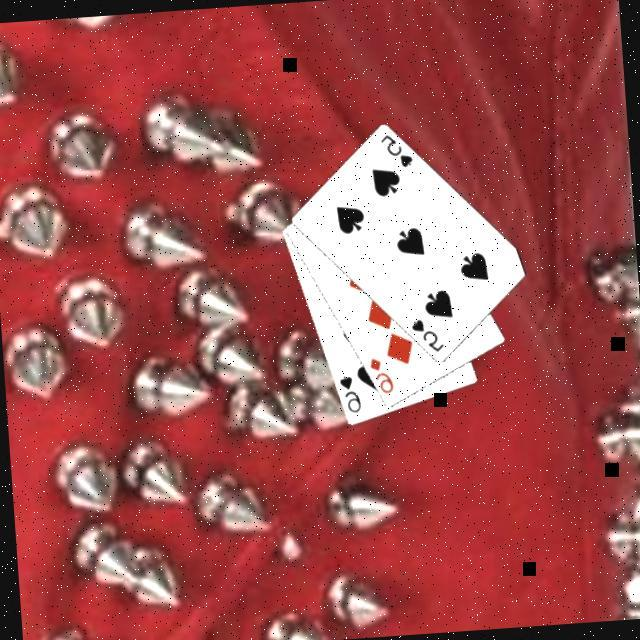5S: (405, 315, 446, 358), (375, 131, 415, 173)
9D: (364, 354, 395, 398)
9S: (333, 372, 362, 418)
